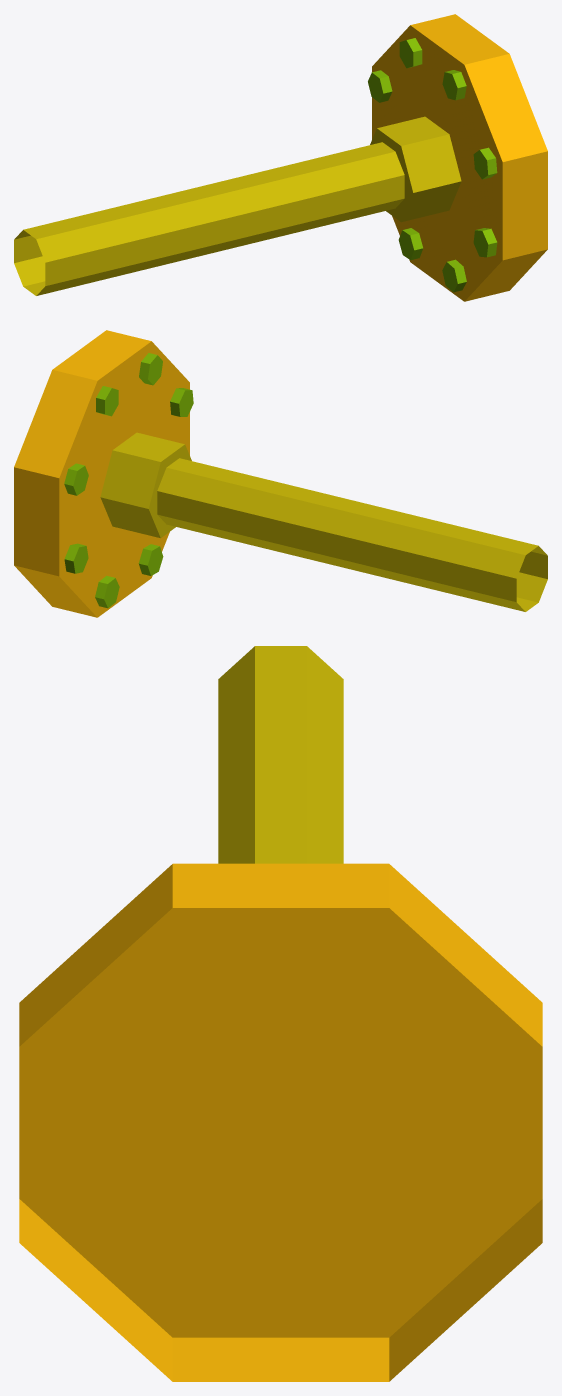
File: fpe_fluid_line_adapter_straight.dae
The picture shows the model from 3 angles, top to bottom: view 1: azimuth 30°, elevation 25°; view 2: azimuth 150°, elevation 25°; view 3: azimuth 270°, elevation 25°; orthographic projection. The views are drawn at different scales.
Visible parts, largest first — view 1: fluid_line_adapter_straight; view 2: fluid_line_adapter_straight; view 3: fluid_line_adapter_straight.
Boxes of the visible parts, box(x1,y1,x2,y2) form: fluid_line_adapter_straight: box(14, 14, 547, 301); fluid_line_adapter_straight: box(14, 330, 547, 617); fluid_line_adapter_straight: box(19, 646, 542, 1381).
Bounding box in the file's own units: 0.25 × 0.125 × 0.125.
